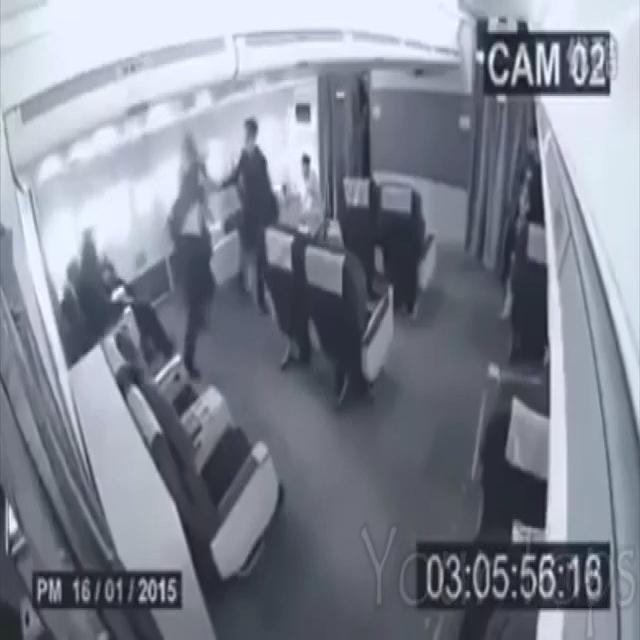fight: (167, 111, 276, 379)
